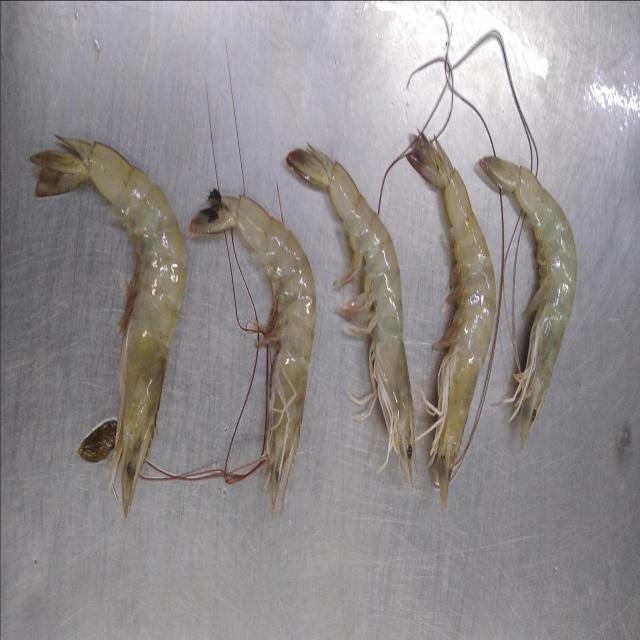shrimp: (30, 136, 185, 516), (286, 144, 415, 484), (189, 189, 316, 511), (406, 133, 495, 509), (479, 156, 576, 447)
